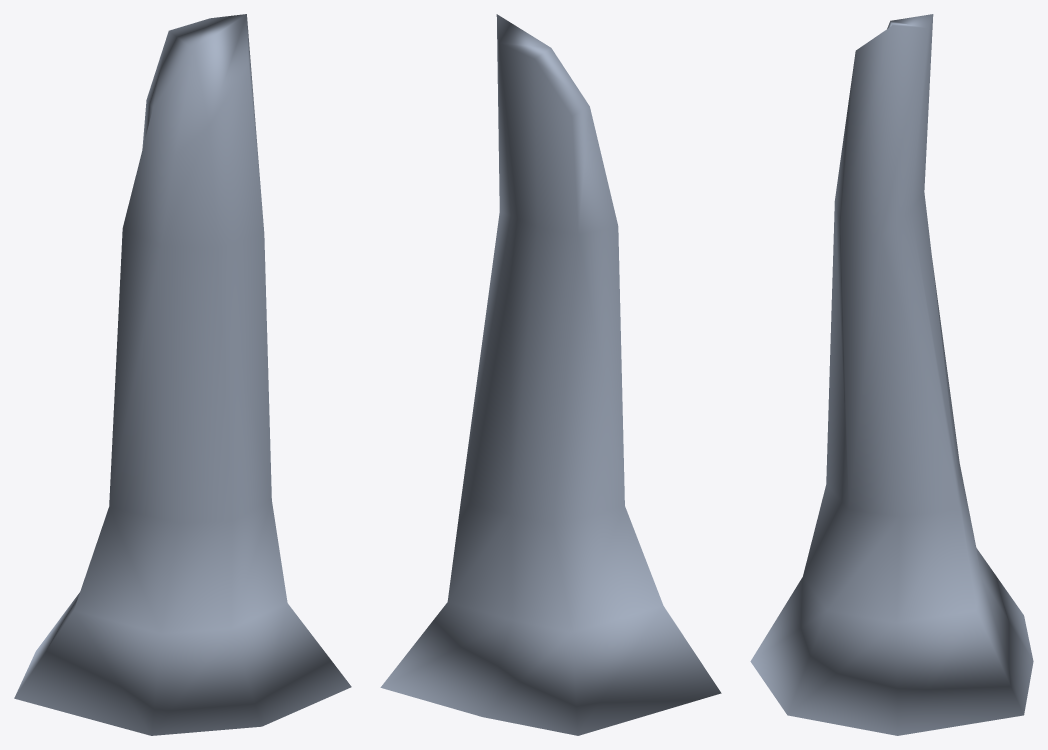
The model's file is S_Stalagmite_02.fbx.
The picture shows the model from 3 angles, left to right: view 1: azimuth 30°, elevation 25°; view 2: azimuth 150°, elevation 25°; view 3: azimuth 270°, elevation 25°; orthographic projection. The views are drawn at different scales.
Parts seen in each view (by area): view 1: S_Stalagmite_02; view 2: S_Stalagmite_02; view 3: S_Stalagmite_02.
Part boxes in pixels (box(x1,y1,x2,y2)): S_Stalagmite_02: box(14, 14, 351, 735); S_Stalagmite_02: box(380, 14, 721, 735); S_Stalagmite_02: box(750, 14, 1033, 735).
Size of the model in its own units: 65.61 by 141 by 53.21.
